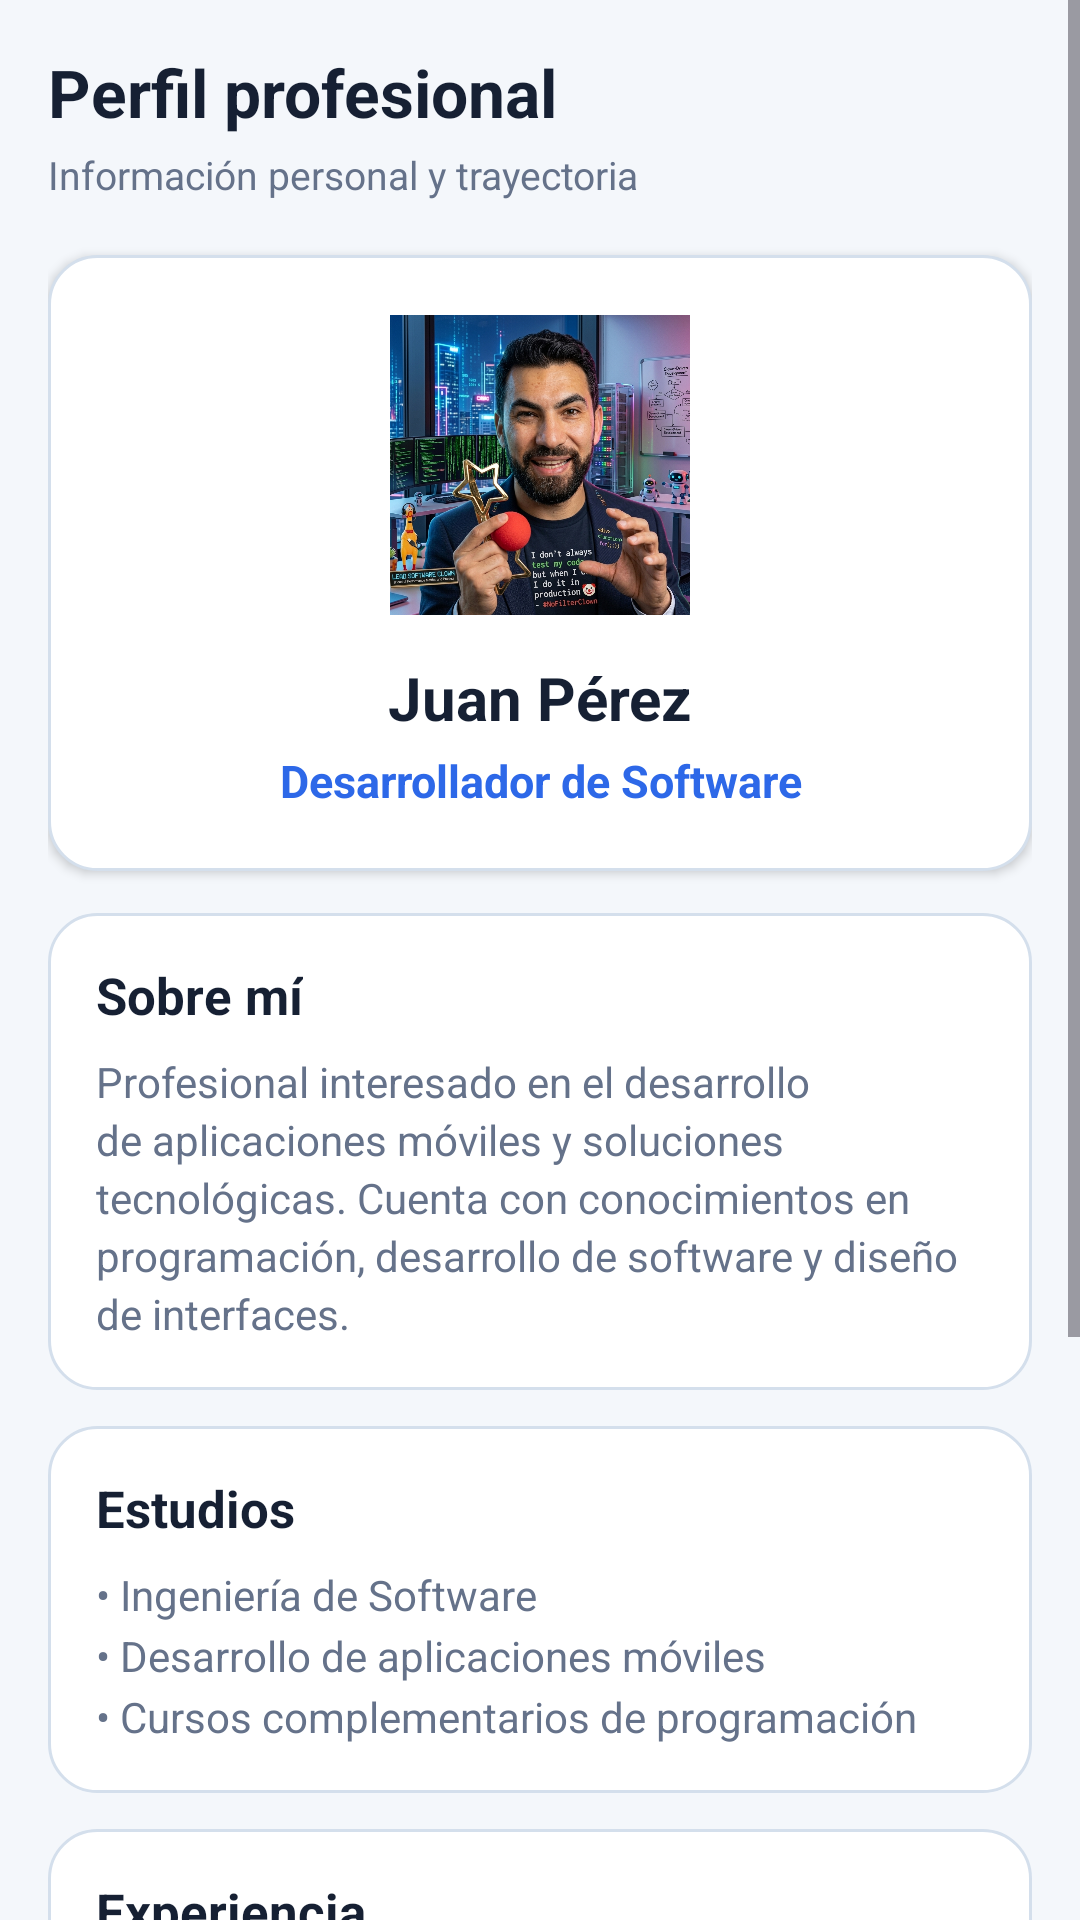

Screen size 1080x1920. Icon name, then its center in pixels as [x,y]:
Foto de perfil: [540,465]
